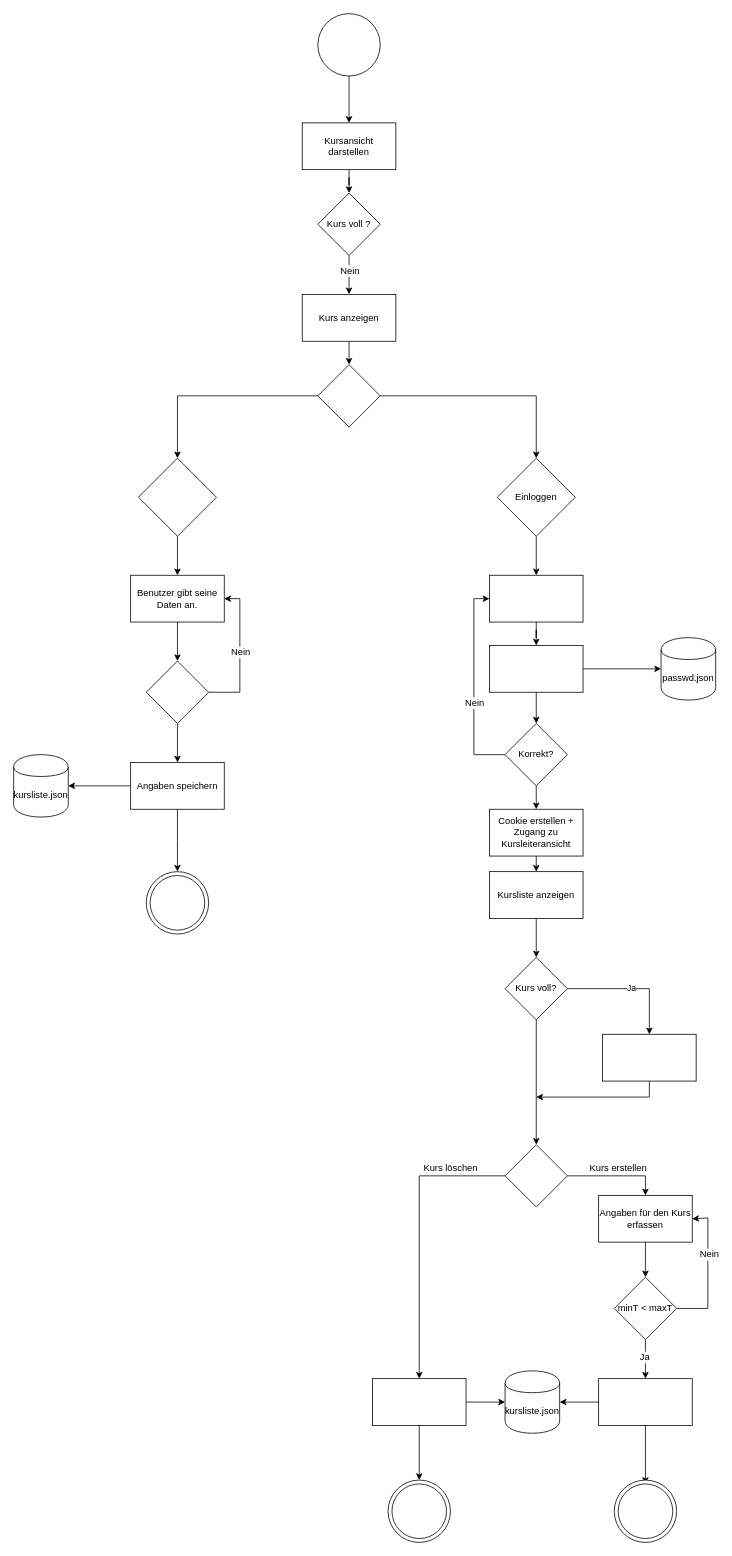
This 732x1556 diagram has some shape labels left out. The shapes that lost their labels are listed below. From the top down, each one's box as (x1, y1, x2, y2) in pixels, then its label:
(138, 457, 216, 536): Kurs einschreiben
(489, 574, 583, 622): Eingabe Benutzername & Passwort
(489, 645, 583, 692): Überprüfung Credentials
(145, 660, 209, 723): Alles ausgefüllt?
(602, 1034, 696, 1081): Kurs grün markieren
(372, 1378, 466, 1425): Kurs aus der Kursliste entfernen
(598, 1378, 692, 1425): Kursspeichern
